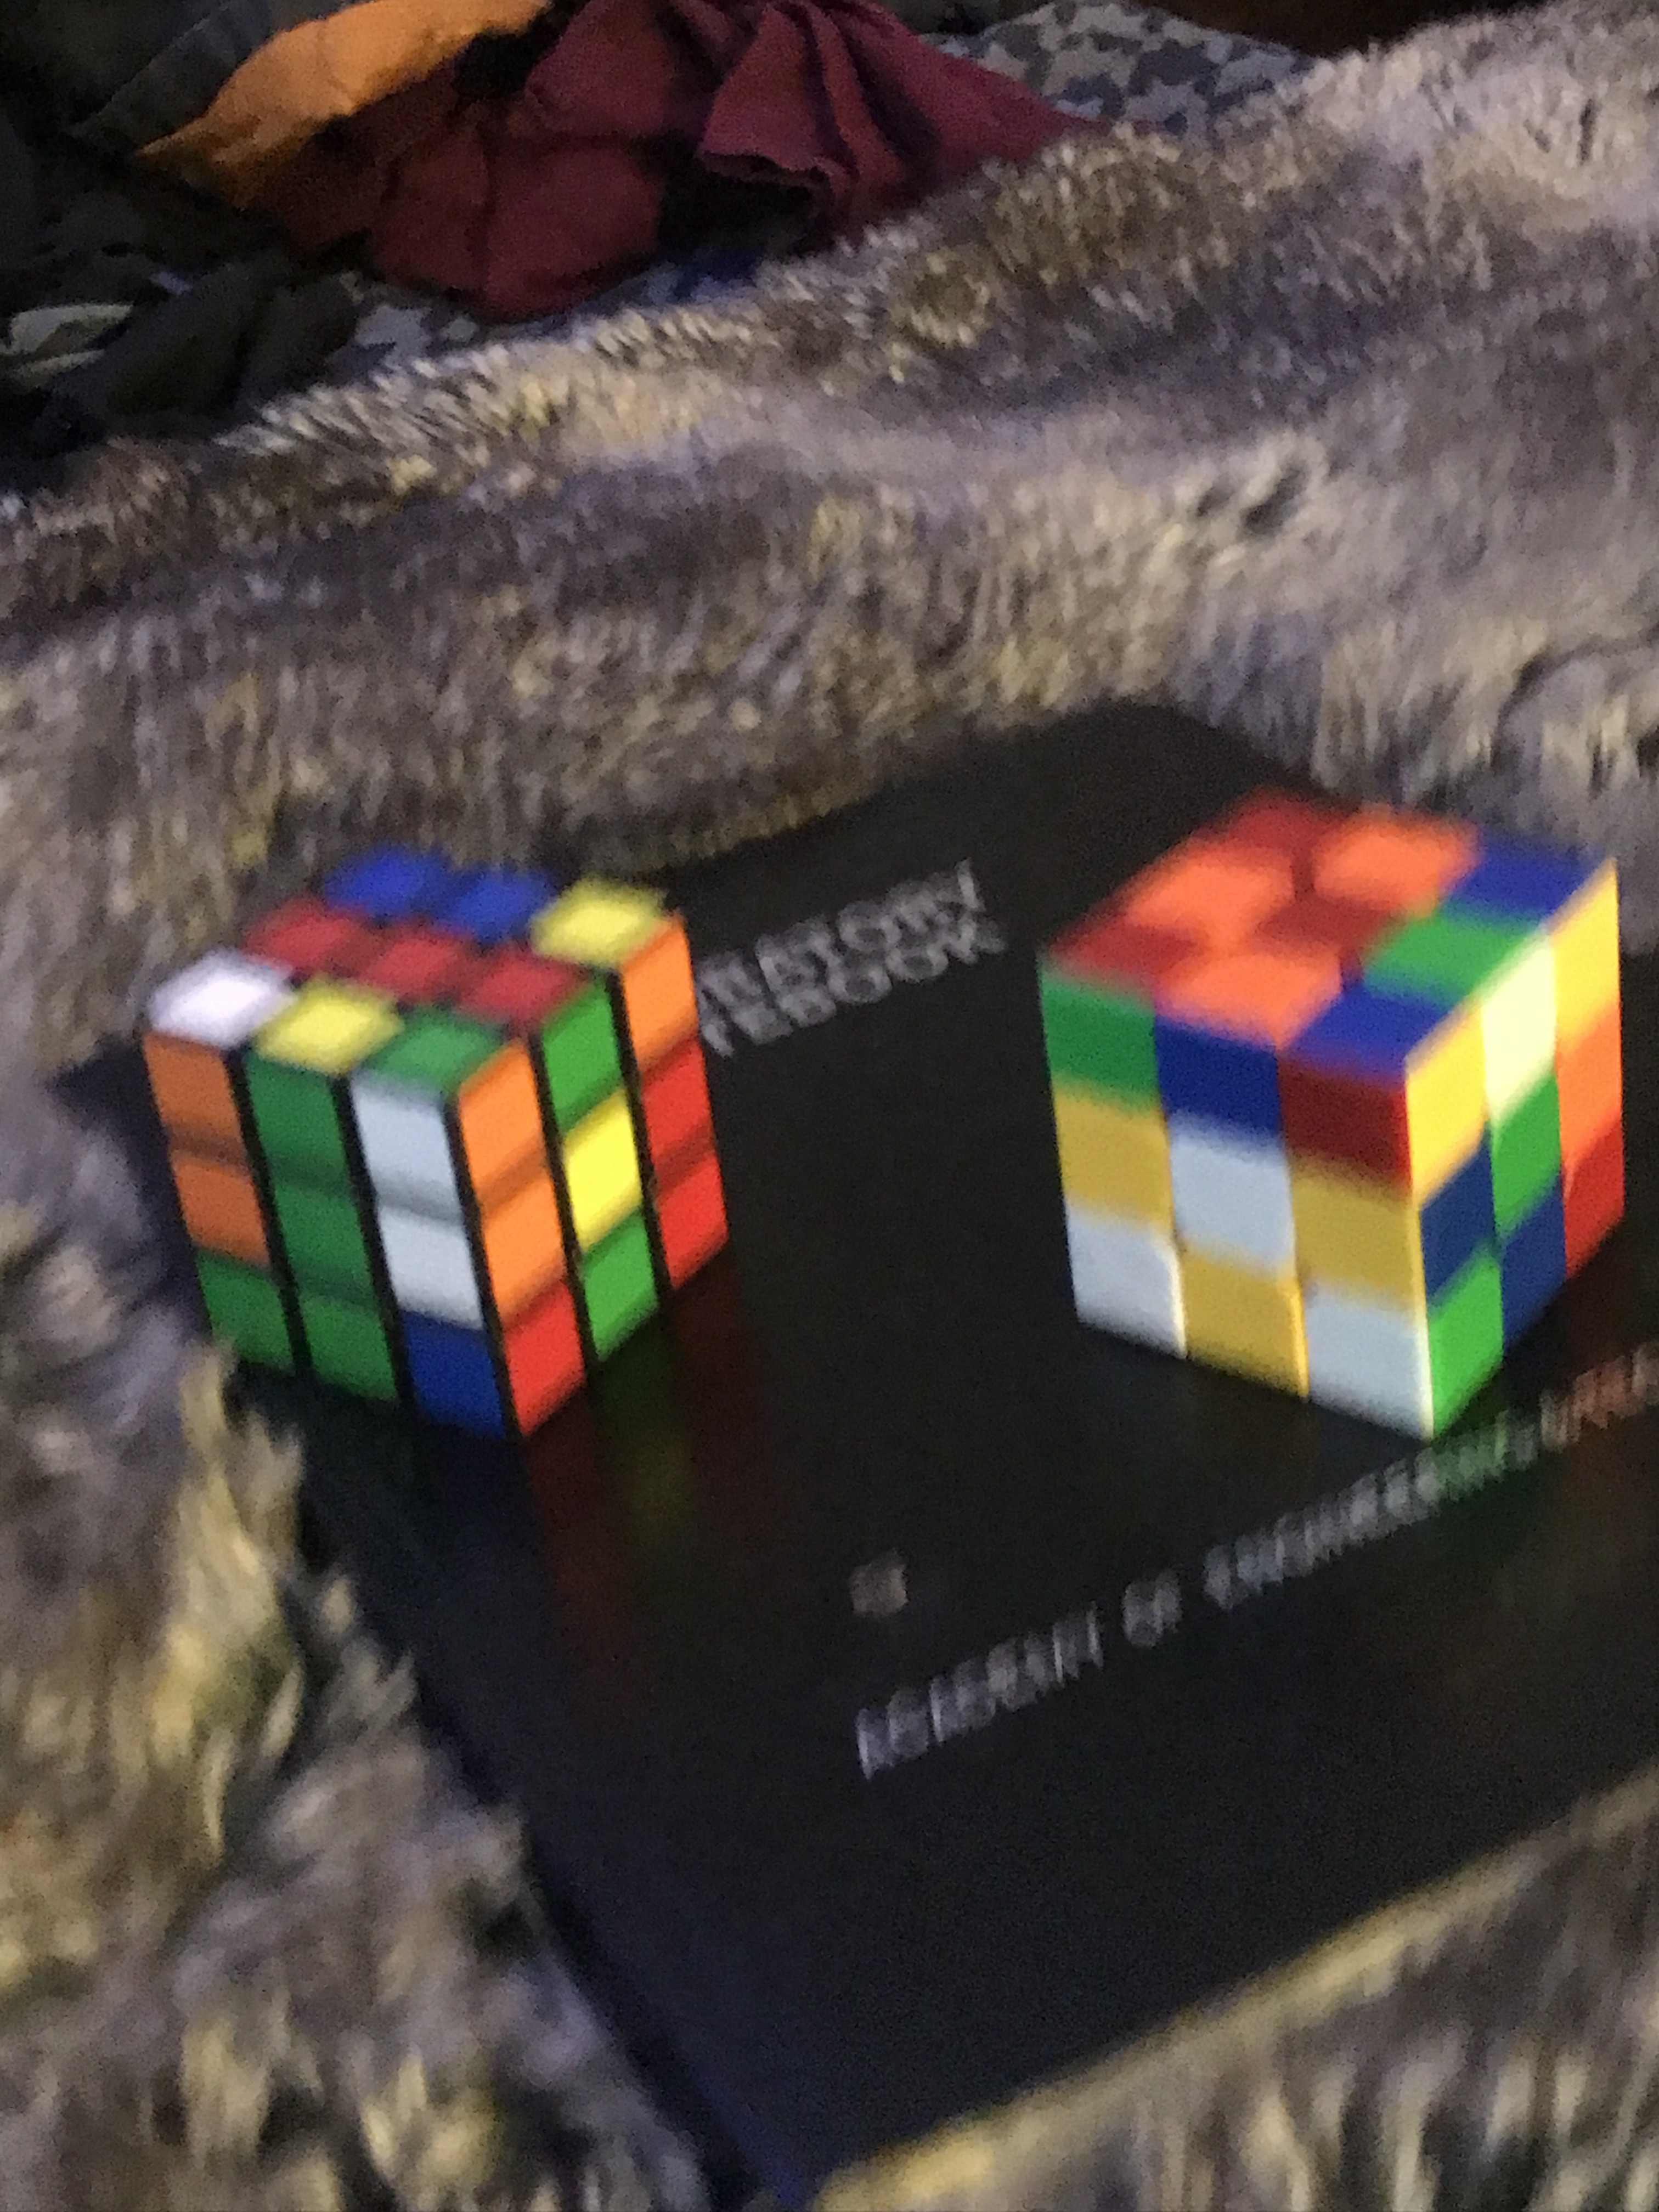rubiks: (1032, 792, 1621, 1428), (143, 852, 735, 1425)
